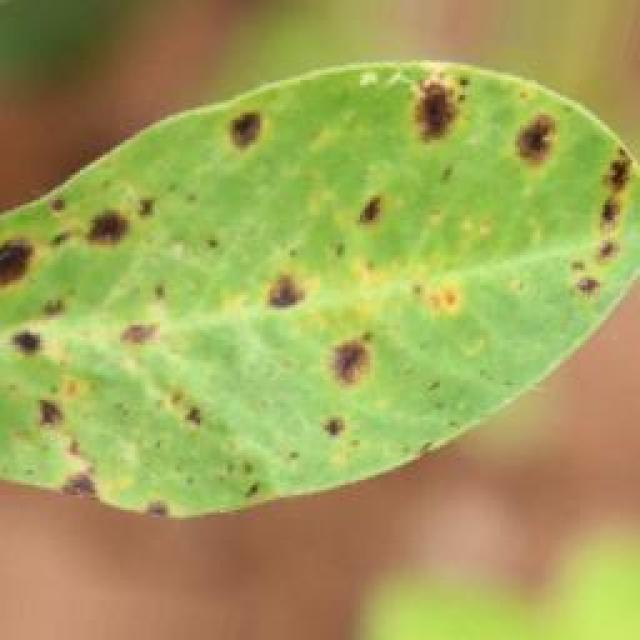Yellowish: (0, 70, 640, 473)
